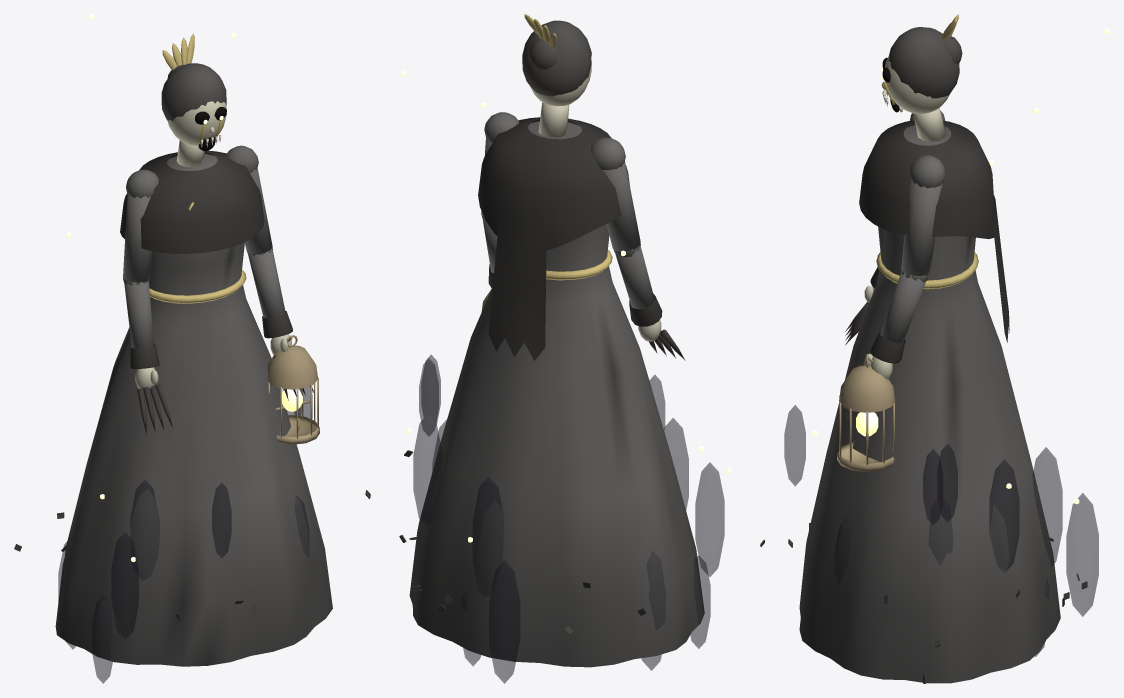
Rendered from canarys_ghost.glb.
3 renders of one model, left to right at view 1: azimuth 30°, elevation 25°; view 2: azimuth 150°, elevation 25°; view 3: azimuth 270°, elevation 25°, orthographic. The views are drawn at different scales.
Visible parts, largest first — view 1: Dress, Canary_Root_AshShadow, Canary_Root_HSmoke, ArmA_AshDress, ArmB_CageBrass, ArmB_AshDress, Head_AshHair, Head_AshSkin, Canary_Root_CanaryYellow, ArmA_HClaw, Head_CanaryYellow, CuffArmB (+1 smaller); view 2: Dress, Canary_Root_HSmoke, Canary_Root_AshShadow, Tail_AshShadow, ArmA_AshDress, Head_AshHair, Head_AshSkin, ArmB_AshDress, Canary_Root_CanaryYellow, CuffArmA; view 3: Dress, Canary_Root_HSmoke, Canary_Root_AshShadow, ArmB_AshDress, Head_AshHair, ArmB_CageBrass, Head_AshSkin, Tail_AshShadow, Canary_Root_CanaryYellow, CuffArmB.
Boxes of the visible parts, x1,y1,x2,y2 form: Dress: [55, 154, 332, 666]; Canary_Root_AshShadow: [120, 150, 370, 620]; Canary_Root_HSmoke: [58, 386, 312, 683]; ArmA_AshDress: [123, 169, 158, 348]; ArmB_CageBrass: [268, 335, 319, 444]; ArmB_AshDress: [226, 145, 285, 317]; Head_AshHair: [161, 63, 226, 121]; Head_AshSkin: [167, 101, 226, 166]; Canary_Root_CanaryYellow: [149, 202, 246, 303]; ArmA_HClaw: [137, 384, 172, 434]; Head_CanaryYellow: [162, 34, 194, 69]; CuffArmB: [262, 311, 292, 338]; Dress: [409, 121, 704, 667]; Canary_Root_HSmoke: [413, 354, 724, 683]; Canary_Root_AshShadow: [404, 117, 629, 539]; Tail_AshShadow: [399, 215, 646, 634]; ArmA_AshDress: [591, 137, 654, 308]; Head_AshHair: [522, 20, 591, 96]; Head_AshSkin: [530, 60, 591, 137]; ArmB_AshDress: [481, 112, 519, 273]; Canary_Root_CanaryYellow: [546, 250, 612, 280]; CuffArmA: [629, 293, 662, 326]; Dress: [799, 125, 1060, 683]; Canary_Root_HSmoke: [784, 405, 1098, 656]; Canary_Root_AshShadow: [760, 121, 994, 683]; ArmB_AshDress: [880, 155, 945, 343]; Head_AshHair: [888, 27, 962, 98]; ArmB_CageBrass: [837, 354, 895, 471]; Head_AshSkin: [881, 55, 949, 141]; Tail_AshShadow: [992, 195, 1087, 606]; Canary_Root_CanaryYellow: [876, 252, 978, 289]; CuffArmB: [870, 331, 905, 363].
Size of the model in its own units: 0.9006 by 1.74 by 0.8681.
